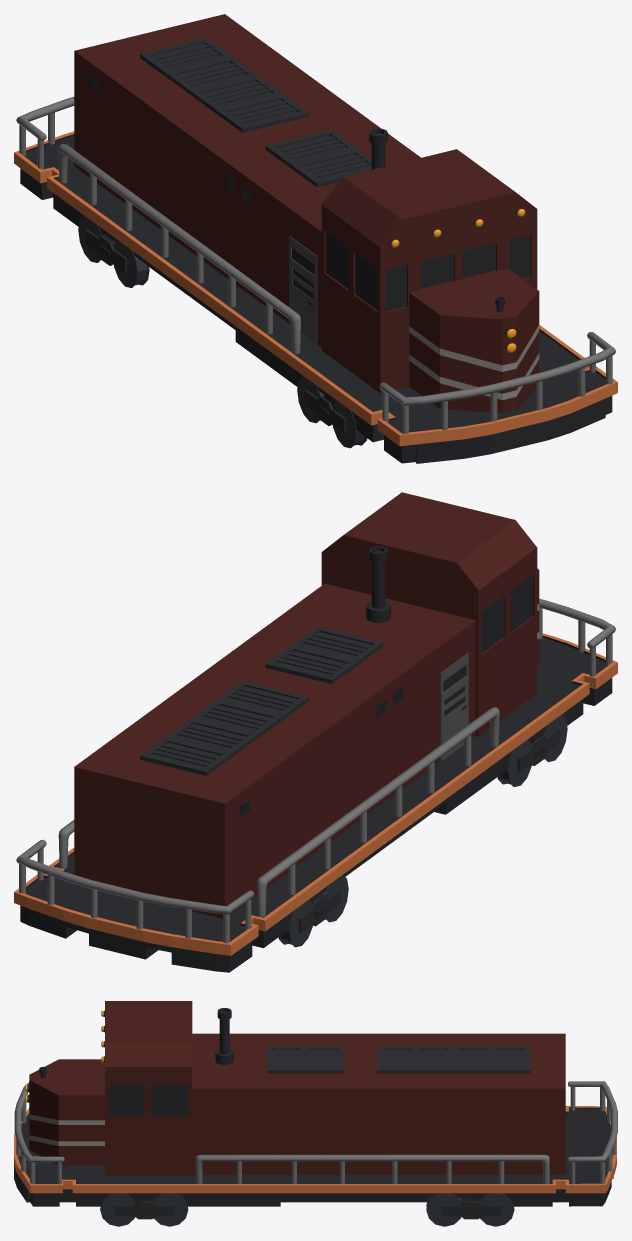
The model's file is Train_1.fbx.
The picture shows the model from 3 angles, top to bottom: view 1: azimuth 30°, elevation 25°; view 2: azimuth 150°, elevation 25°; view 3: azimuth 270°, elevation 25°; orthographic projection. The views are drawn at different scales.
Visible parts, largest first — view 1: Train_1; view 2: Train_1; view 3: Train_1.
Part boxes in pixels (x1=…): Train_1: x1=14, y1=14, x2=617, y2=463; Train_1: x1=14, y1=492, x2=617, y2=972; Train_1: x1=14, y1=1001, x2=617, y2=1226.
Bounding box in the file's own units: 227 × 232 × 721.
